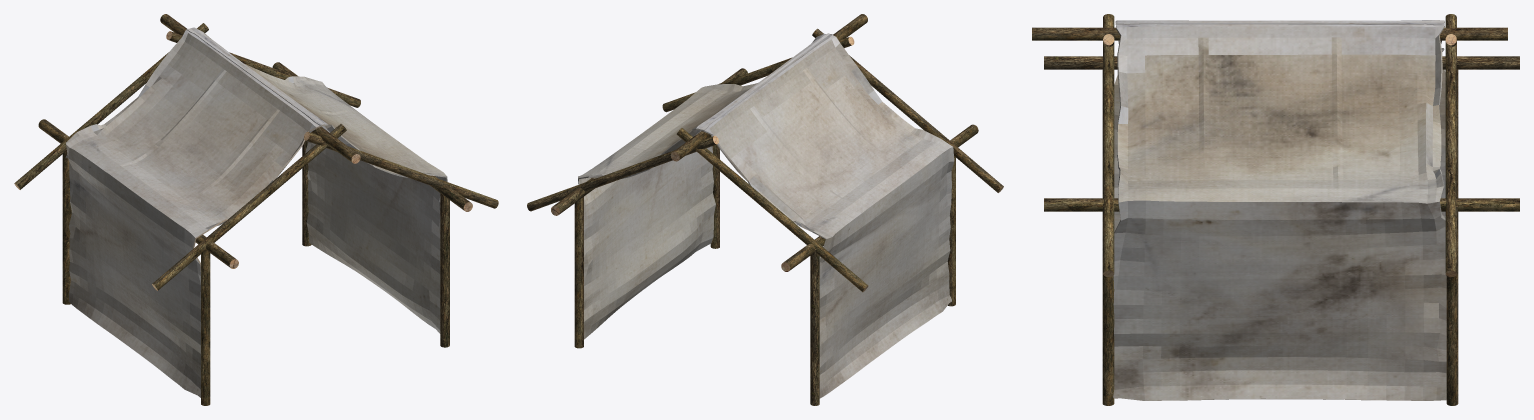
The model's file is tent.fbx.
The picture shows the model from 3 angles, left to right: view 1: azimuth 30°, elevation 25°; view 2: azimuth 150°, elevation 25°; view 3: azimuth 270°, elevation 25°; orthographic projection. The views are drawn at different scales.
Parts seen in each view (by area): view 1: tent; view 2: tent; view 3: tent.
Part boxes in pixels (<box>): tent: <box>14,14,498,405</box>; tent: <box>527,14,1003,405</box>; tent: <box>1032,14,1519,405</box>.
Bounding box in the file's own units: 288 × 198 × 284.
3 materials, 3 textured.
